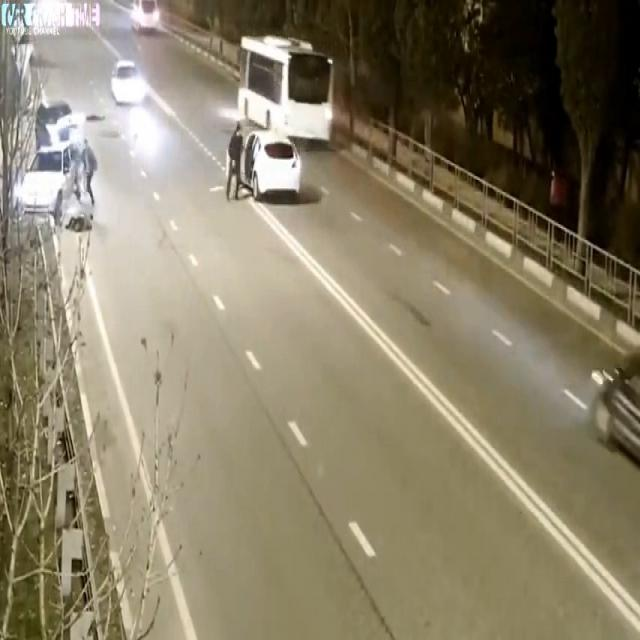Accident: (23, 68, 88, 246)
